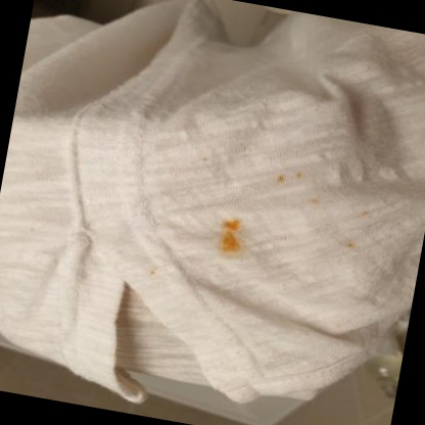kimchi: (219, 218, 247, 258), (272, 171, 288, 191), (305, 194, 324, 208), (292, 169, 308, 178), (145, 273, 158, 284), (344, 239, 356, 250), (356, 209, 367, 221), (201, 156, 212, 165)
